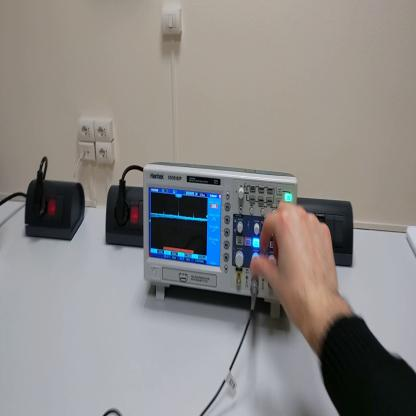hand: (252, 201, 344, 331)
oscilloscope: (143, 164, 300, 322)
socket: (25, 179, 86, 240), (106, 186, 144, 247)
